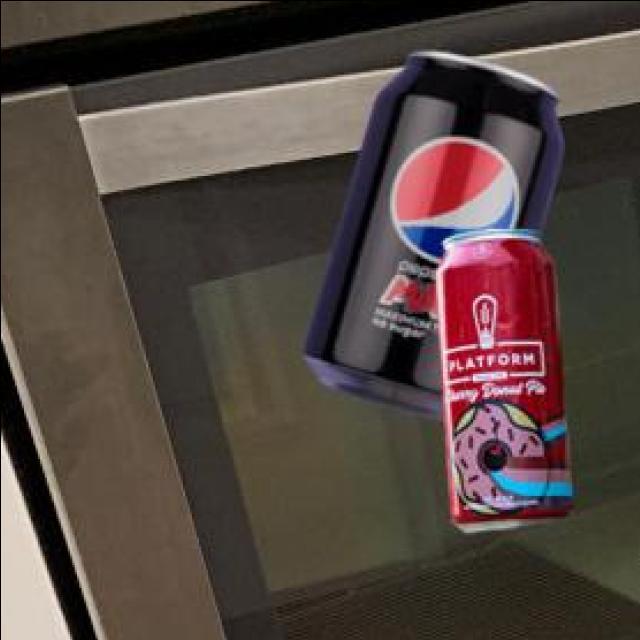logam: (298, 47, 558, 416), (432, 224, 567, 528)
